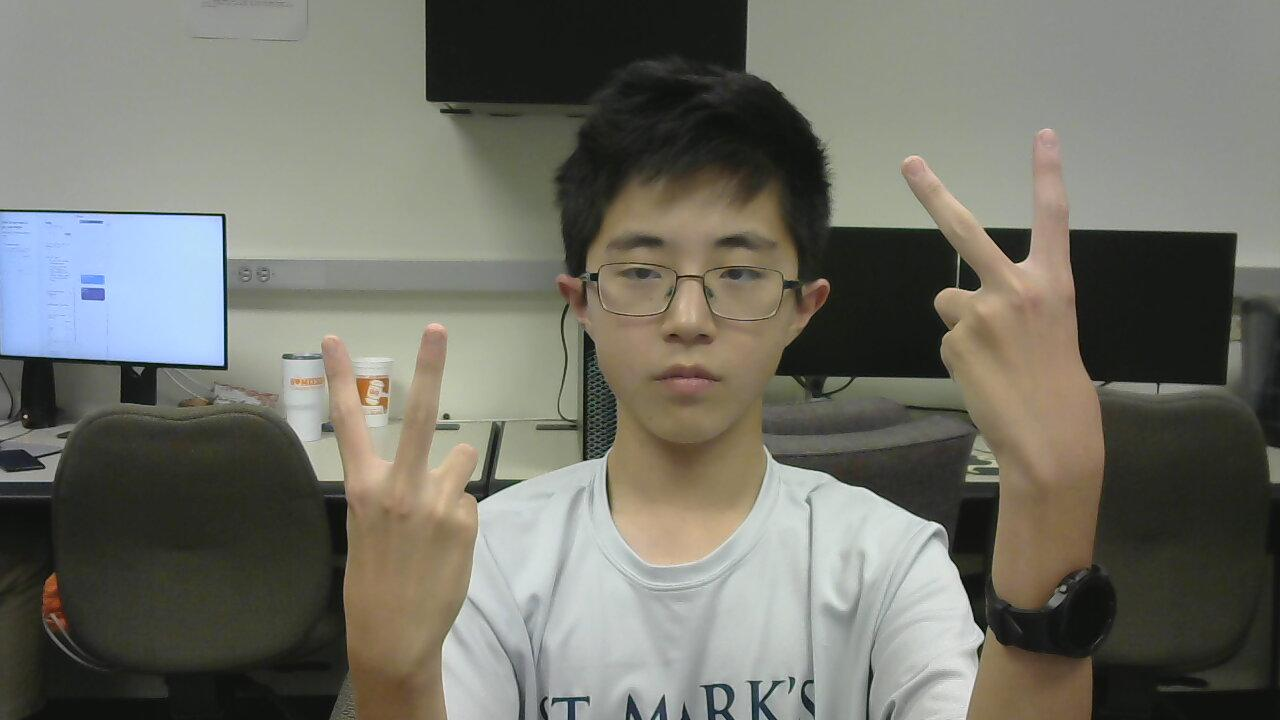peace: (881, 117, 1112, 514), (293, 317, 492, 658)
